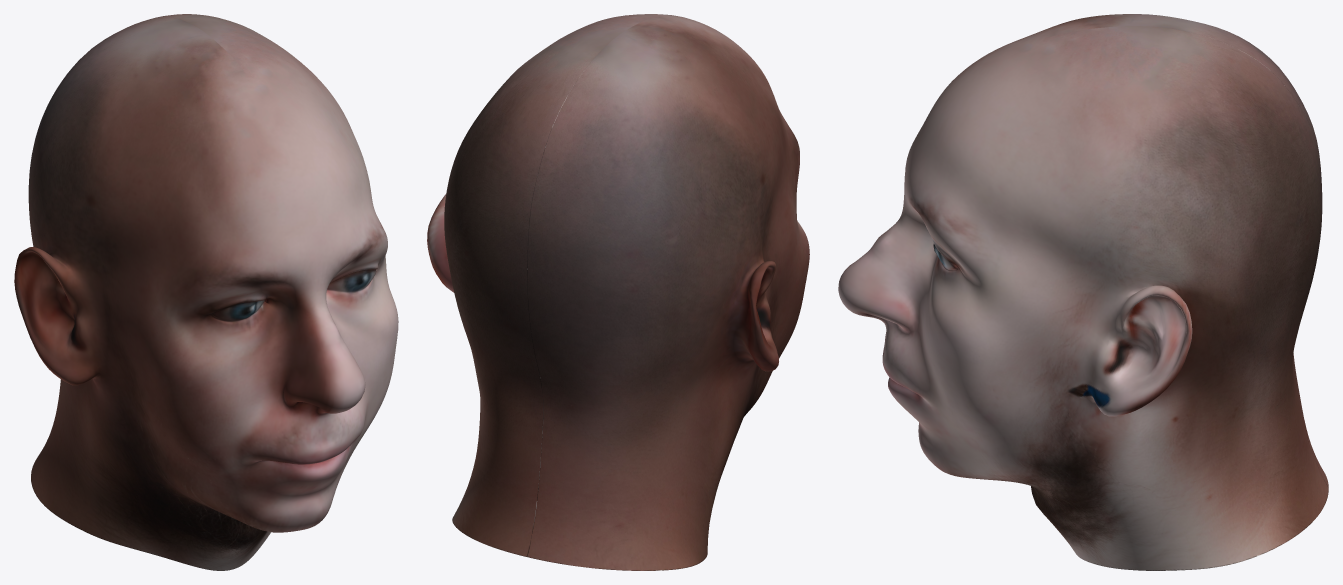
The model's file is oliver.glb.
3 renders of one model, left to right at view 1: azimuth 30°, elevation 25°; view 2: azimuth 150°, elevation 25°; view 3: azimuth 270°, elevation 25°, orthographic. The views are drawn at different scales.
Parts seen in each view (by area): view 1: FaceBuilderHead; view 2: FaceBuilderHead; view 3: FaceBuilderHead.
Boxes of the visible parts, box(x1,y1,x2,y2) form: FaceBuilderHead: box(14, 14, 398, 570); FaceBuilderHead: box(427, 14, 809, 570); FaceBuilderHead: box(838, 14, 1328, 570).
Bounding box in the file's own units: 1.83 × 2.72 × 2.3.
1 material, 1 textured.
